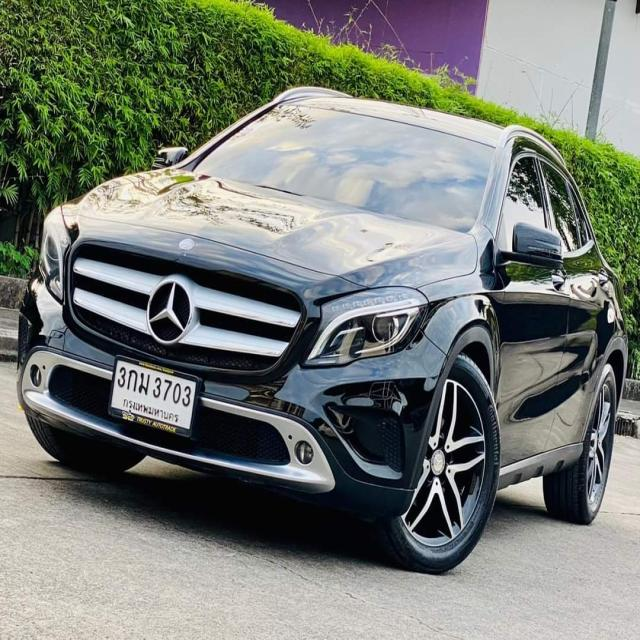license_plate: (111, 349, 202, 444)
